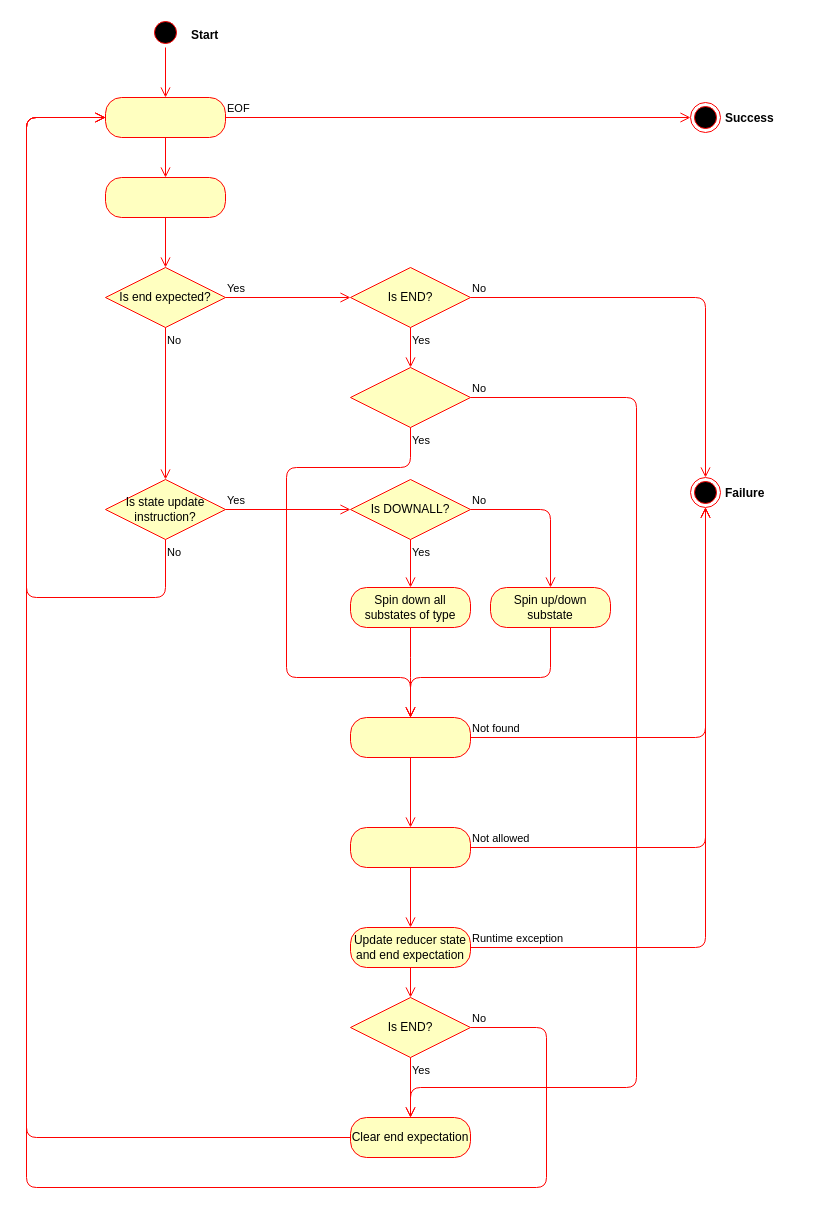
The diagram is 818 pixels wide and 1215 high, and some of its shapes have lost their labels. The centre of each missing label's shape, as x and y in pixels:
"Is reducer state not void?" goes at [410,397].
"Load instruction" goes at [165,117].
"Look up transition procedure" goes at [410,737].
"Update current instruction and index" goes at [165,197].
"Verify permission and authorization" goes at [410,847].
